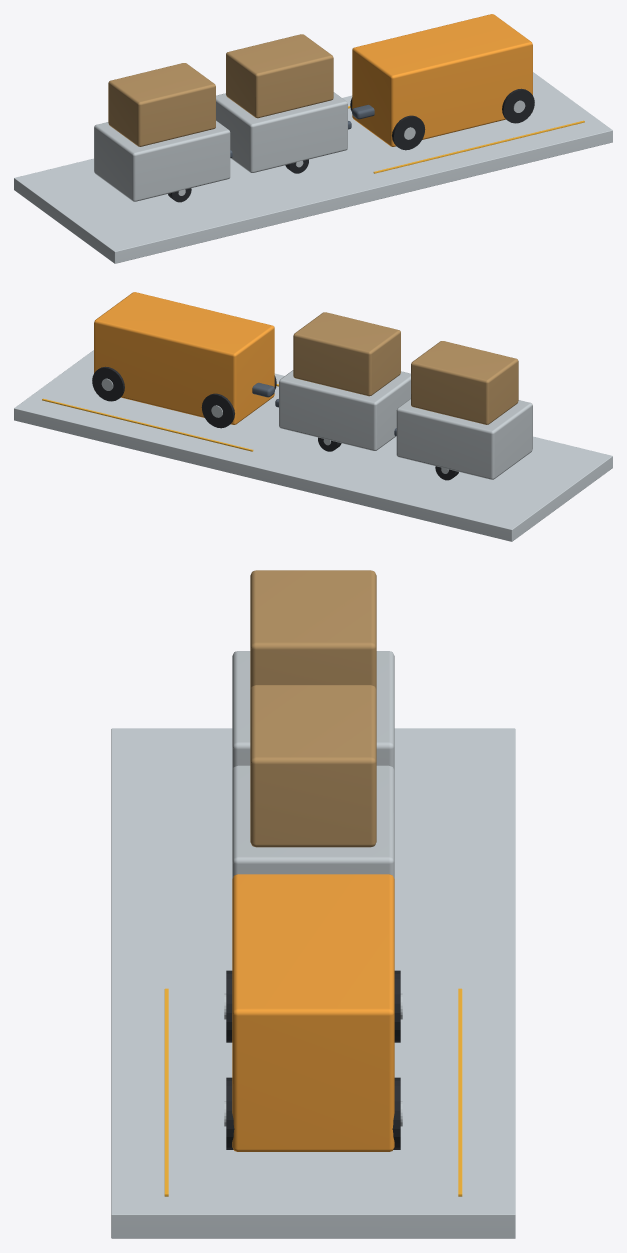
3 views of the same model, one above another, from view 1: azimuth 30°, elevation 25°; view 2: azimuth 150°, elevation 25°; view 3: azimuth 270°, elevation 25° (orthographic). The views are drawn at different scales.
Parts seen in each view (by area): view 1: Ground plane, Tow tractor chassis, Illustrative tugger cart.001, Cart load, Cart load.001, Illustrative tugger cart, Driven wheel / tyre, Driven wheel / tyre.002, Concept clearance guide; view 2: Ground plane, Tow tractor chassis, Illustrative tugger cart.001, Cart load, Cart load.001, Illustrative tugger cart, Driven wheel / tyre.001, Driven wheel / tyre.003, Concept clearance guide.001; view 3: Ground plane, Tow tractor chassis, Cart load, Cart load.001, Illustrative tugger cart, Illustrative tugger cart.001, Concept clearance guide, Concept clearance guide.001.
Boxes of the visible parts, x1=… form: Ground plane: x1=14, y1=72, x2=612, y2=263; Tow tractor chassis: x1=352, y1=14, x2=532, y2=146; Illustrative tugger cart.001: x1=94, y1=120, x2=230, y2=201; Cart load: x1=226, y1=34, x2=333, y2=118; Cart load.001: x1=108, y1=63, x2=215, y2=146; Illustrative tugger cart: x1=216, y1=92, x2=347, y2=172; Driven wheel / tyre: x1=392, y1=115, x2=425, y2=150; Driven wheel / tyre.002: x1=502, y1=88, x2=534, y2=123; Concept clearance guide: x1=373, y1=120, x2=584, y2=173; Ground plane: x1=14, y1=350, x2=612, y2=541; Tow tractor chassis: x1=94, y1=292, x2=274, y2=424; Illustrative tugger cart.001: x1=396, y1=398, x2=532, y2=479; Cart load: x1=293, y1=312, x2=400, y2=396; Cart load.001: x1=411, y1=341, x2=518, y2=424; Illustrative tugger cart: x1=279, y1=370, x2=410, y2=450; Driven wheel / tyre.001: x1=201, y1=393, x2=234, y2=428; Driven wheel / tyre.003: x1=92, y1=366, x2=124, y2=401; Concept clearance guide.001: x1=42, y1=398, x2=253, y2=451; Ground plane: x1=111, y1=728, x2=515, y2=1238; Tow tractor chassis: x1=232, y1=874, x2=394, y2=1151; Cart load: x1=250, y1=685, x2=376, y2=847; Cart load.001: x1=250, y1=570, x2=376, y2=689; Illustrative tugger cart: x1=232, y1=765, x2=394, y2=878; Illustrative tugger cart.001: x1=232, y1=651, x2=394, y2=770; Concept clearance guide: x1=164, y1=988, x2=168, y2=1196; Concept clearance guide.001: x1=458, y1=988, x2=462, y2=1196.
Size of the model in its own units: 5.09 by 1.18 by 1.79.
